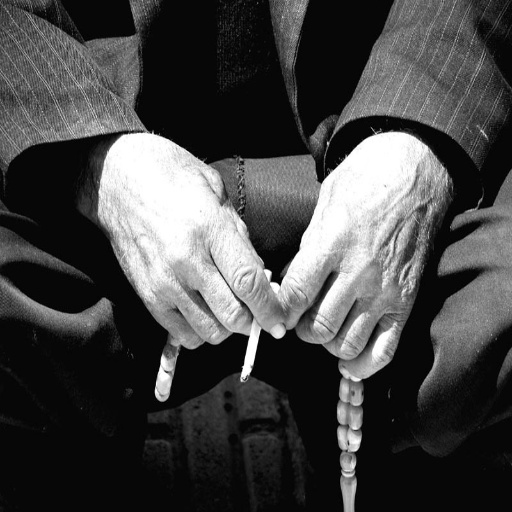hand: (274, 122, 455, 382), (99, 131, 288, 349)
